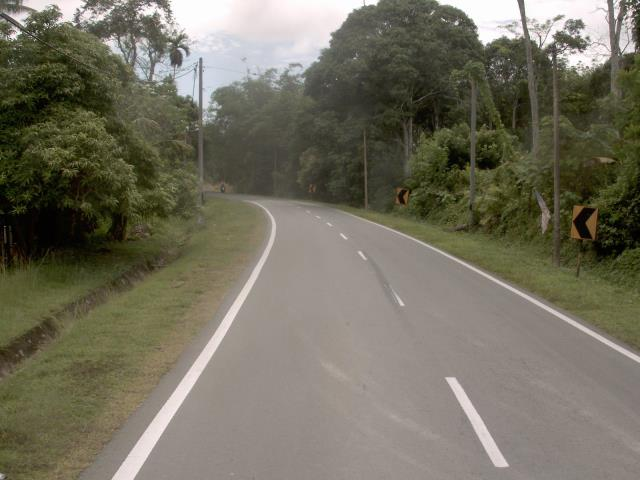traffic_sign: (565, 198, 605, 247)
